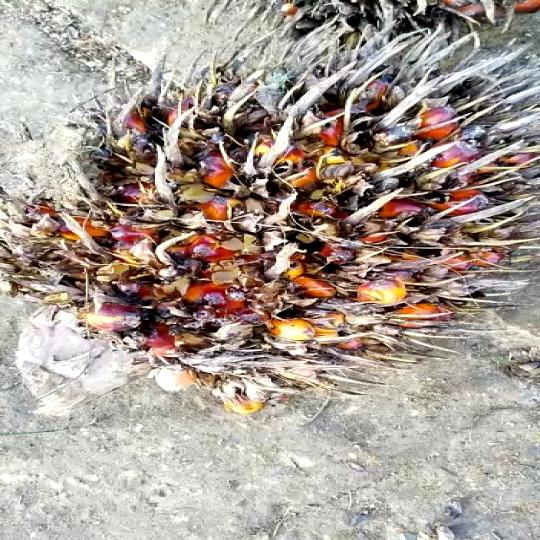terlalu masak: (13, 32, 540, 426)
